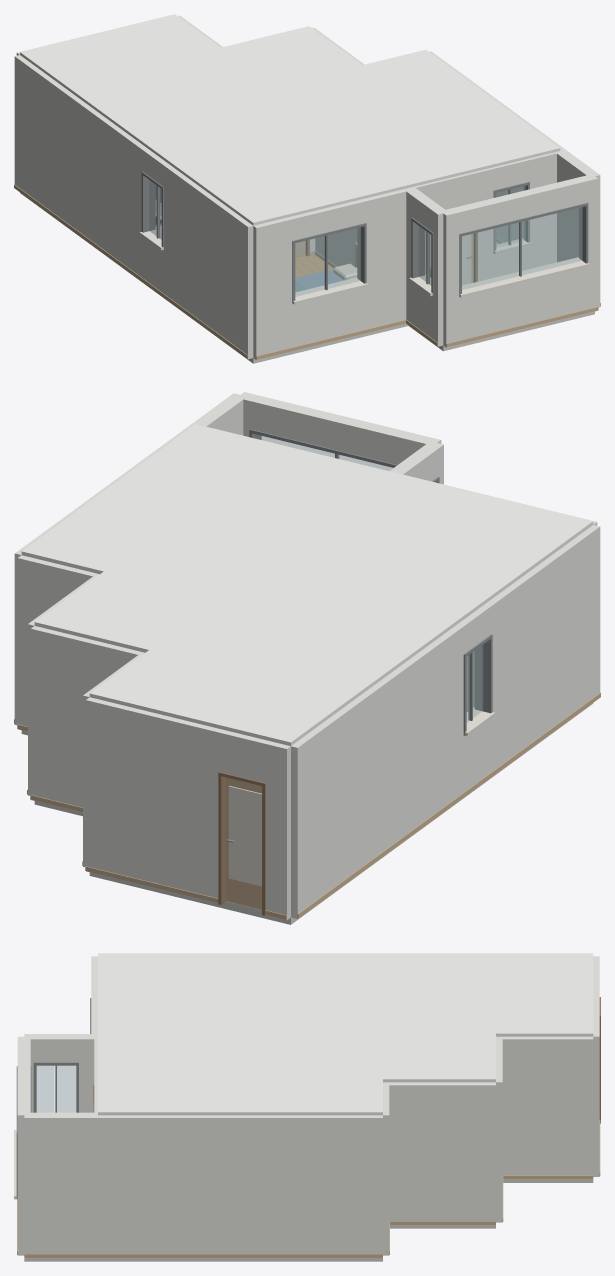
Rendered from two-02.glb.
The picture shows the model from 3 angles, top to bottom: view 1: azimuth 30°, elevation 25°; view 2: azimuth 150°, elevation 25°; view 3: azimuth 270°, elevation 25°; orthographic projection. The views are drawn at different scales.
Parts seen in each view (by area): view 1: architecture_wall, ceiling_ceiling, frames_glass, frames_metal, frames_ivory, trim_oak, slab_edge, floor_woodfloor, furniture_blue, door_ivory; view 2: architecture_wall, ceiling_ceiling, door_ivory, trim_oak, frames_metal, frames_walnut, slab_edge, door_oak, frames_glass; view 3: architecture_wall, ceiling_ceiling, trim_oak, slab_edge, frames_glass, frames_metal.
Boxes of the visible parts, <box> form: architecture_wall: <box>14,16,600,360</box>; ceiling_ceiling: <box>20,14,560,225</box>; frames_glass: <box>149,180,582,296</box>; frames_metal: <box>141,171,588,303</box>; frames_ivory: <box>139,228,589,304</box>; trim_oak: <box>14,184,600,359</box>; slab_edge: <box>20,192,594,363</box>; floor_woodfloor: <box>295,242,498,277</box>; furniture_blue: <box>295,269,343,288</box>; door_ivory: <box>462,234,471,285</box>; architecture_wall: <box>14,392,600,920</box>; ceiling_ceiling: <box>21,424,593,745</box>; door_ivory: <box>228,785,261,886</box>; trim_oak: <box>14,692,600,919</box>; frames_metal: <box>249,429,492,735</box>; frames_walnut: <box>218,772,265,915</box>; slab_edge: <box>21,703,593,924</box>; door_oak: <box>225,777,261,909</box>; frames_glass: <box>257,435,482,722</box>; architecture_wall: <box>17,956,599,1258</box>; ceiling_ceiling: <box>98,953,593,1115</box>; trim_oak: <box>17,1120,600,1257</box>; slab_edge: <box>24,1179,593,1261</box>; frames_glass: <box>37,1066,75,1112</box>; frames_metal: <box>16,998,94,1199</box>.
Bounding box in the file's own units: 6.99 × 2.93 × 10.43.
20 materials, 4 textured.
